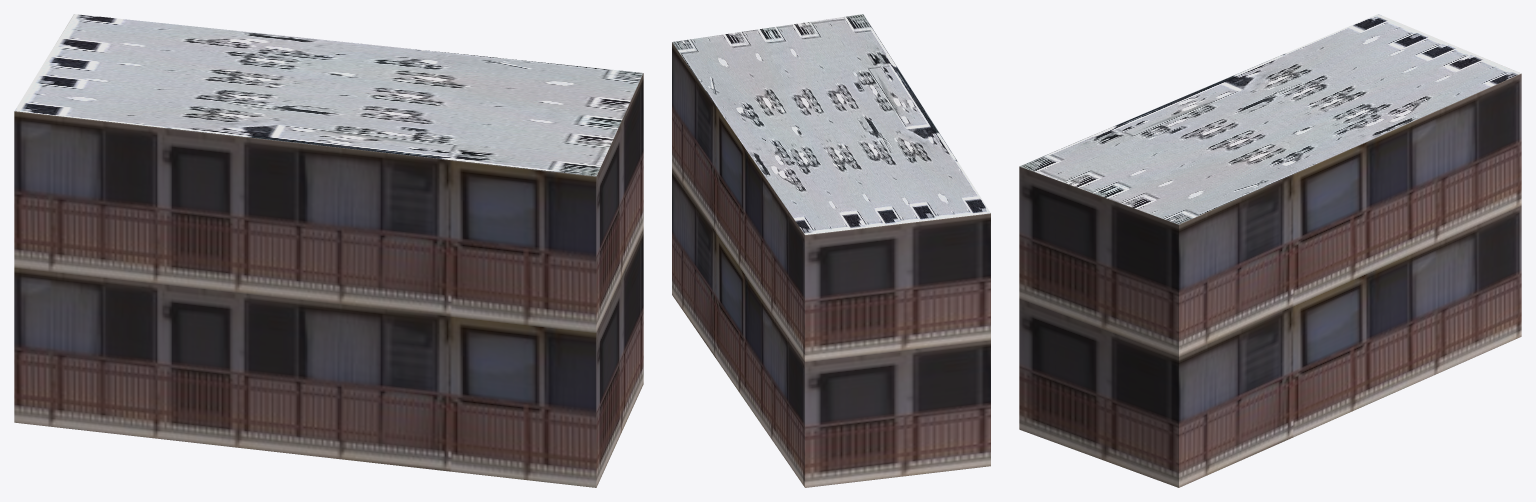
Rendered from ResTex__1822.fbx.
3 renders of one model, left to right at view 1: azimuth 30°, elevation 25°; view 2: azimuth 150°, elevation 25°; view 3: azimuth 270°, elevation 25°, orthographic. The views are drawn at different scales.
Parts seen in each view (by area): view 1: CityEngineMaterial_6_m, CityEngineMaterial_4_m; view 2: CityEngineMaterial_6_m, CityEngineMaterial_4_m; view 3: CityEngineMaterial_6_m, CityEngineMaterial_4_m.
Boxes of the visible parts, x1=… form: CityEngineMaterial_6_m: x1=14, y1=73, x2=643, y2=487; CityEngineMaterial_4_m: x1=14, y1=14, x2=643, y2=176; CityEngineMaterial_6_m: x1=672, y1=42, x2=990, y2=487; CityEngineMaterial_4_m: x1=672, y1=14, x2=990, y2=234; CityEngineMaterial_6_m: x1=1019, y1=73, x2=1521, y2=487; CityEngineMaterial_4_m: x1=1020, y1=14, x2=1521, y2=224.
Bounding box in the file's own units: 10.3 × 6 × 10.37.
2 materials, 2 textured.
